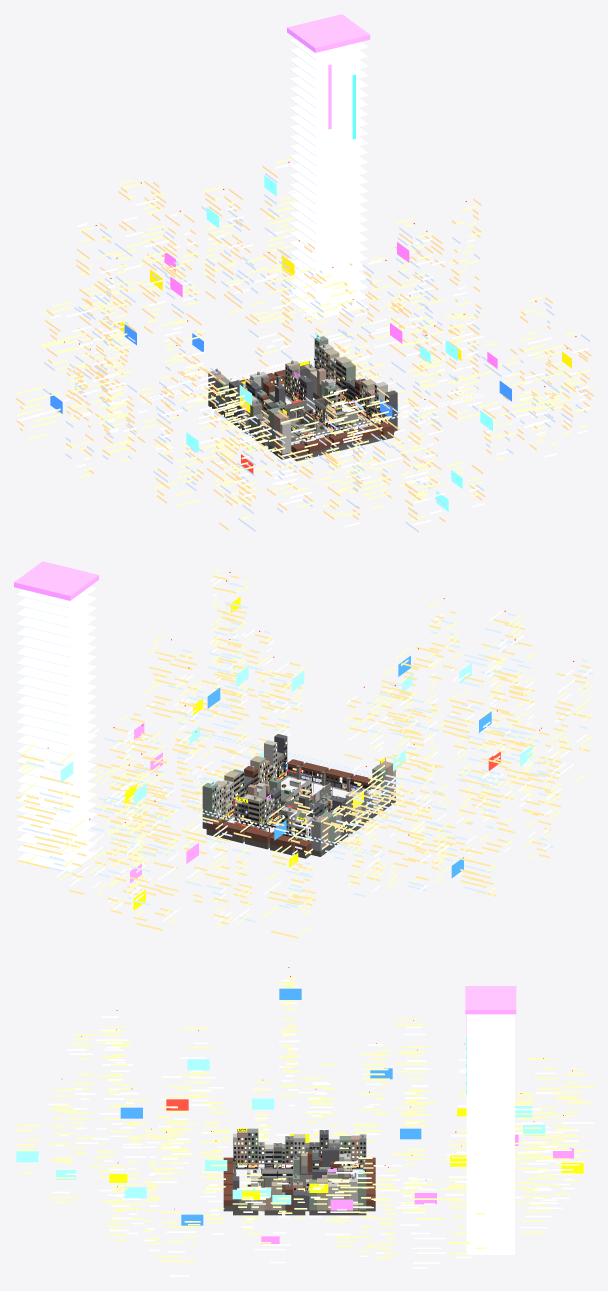
The model's file is kb-town.glb.
The picture shows the model from 3 angles, top to bottom: view 1: azimuth 30°, elevation 25°; view 2: azimuth 150°, elevation 25°; view 3: azimuth 270°, elevation 25°; orthographic projection. The views are drawn at different scales.
Visible parts, largest first — view 1: glb:gj-neon:GJ_WindowCool|ffffff|0, glb:gj-neon:GJ_WindowLit|ffffff|0, glb:gj-shell:GS_Paint|8c7271|1, glb:gj-neon:GJ_NeonViolet|ffffff|0, glb:gj-shell:GS_Tile|ffffff|1, glb:gj-shell:GS_Brick|ffffff|1, glb:gj-shell:GS_StuccoE|ffffff|1, glb:gj-neon:GJ_Screen|ffffff|0, glb:gj-shell:GS_StuccoC|ffffff|1, glb:gj-shell:GS_Slab|ffffff|1, glb:gj-shell:GS_StuccoA|ffffff|1, glb:gj-shell:GS_Concrete|ffffff|1 (+4 smaller); view 2: glb:gj-neon:GJ_WindowCool|ffffff|0, glb:gj-neon:GJ_WindowLit|ffffff|0, glb:gj-shell:GS_Paint|8c7271|1, glb:gj-shell:GS_Brick|ffffff|1, glb:gj-neon:GJ_NeonViolet|ffffff|0, glb:gj-shell:GS_Tile|ffffff|1, glb:gj-shell:GS_StuccoC|ffffff|1, glb:gj-neon:GJ_Screen|ffffff|0, glb:gj-shell:GS_StuccoE|ffffff|1, glb:gj-shell:GS_StuccoA|ffffff|1, glb:gj-shell:GS_Slab|ffffff|1, glb:gj-neon:GJ_LightboxBlue|ffffff|0 (+5 smaller); view 3: glb:gj-neon:GJ_WindowCool|ffffff|0, glb:gj-neon:GJ_WindowLit|ffffff|0, glb:gj-neon:GJ_Screen|ffffff|0, glb:gj-shell:GS_Paint|8c7271|1, glb:gj-neon:GJ_NeonViolet|ffffff|0, glb:gj-shell:GS_Tile|ffffff|1, glb:gj-shell:GS_StuccoC|ffffff|1, glb:gj-shell:GS_StuccoE|ffffff|1, glb:gj-shell:GS_Brick|ffffff|1, glb:gj-neon:GJ_LightboxBlue|ffffff|0, glb:gj-neon:GJ_LightboxYellow|ffffff|0, glb:gj-shell:GS_Slab|ffffff|1 (+5 smaller).
Boxes of the visible parts, x1,y1,x2,y2 form: glb:gj-neon:GJ_WindowCool|ffffff|0: [15, 38, 590, 532]; glb:gj-neon:GJ_WindowLit|ffffff|0: [14, 158, 593, 530]; glb:gj-shell:GS_Paint|8c7271|1: [215, 335, 388, 444]; glb:gj-neon:GJ_NeonViolet|ffffff|0: [287, 14, 383, 422]; glb:gj-shell:GS_Tile|ffffff|1: [242, 344, 387, 454]; glb:gj-shell:GS_Brick|ffffff|1: [240, 364, 393, 455]; glb:gj-shell:GS_StuccoE|ffffff|1: [229, 366, 397, 426]; glb:gj-neon:GJ_Screen|ffffff|0: [186, 175, 492, 511]; glb:gj-shell:GS_StuccoC|ffffff|1: [216, 336, 361, 447]; glb:gj-shell:GS_Slab|ffffff|1: [208, 392, 397, 461]; glb:gj-shell:GS_StuccoA|ffffff|1: [263, 349, 376, 417]; glb:gj-shell:GS_Concrete|ffffff|1: [240, 366, 384, 436]; glb:gj-neon:GJ_WindowCool|ffffff|0: [16, 575, 592, 922]; glb:gj-neon:GJ_WindowLit|ffffff|0: [15, 569, 593, 938]; glb:gj-shell:GS_Paint|8c7271|1: [211, 736, 385, 841]; glb:gj-shell:GS_Brick|ffffff|1: [206, 759, 372, 852]; glb:gj-neon:GJ_NeonViolet|ffffff|0: [14, 561, 284, 824]; glb:gj-shell:GS_Tile|ffffff|1: [214, 740, 395, 836]; glb:gj-shell:GS_StuccoC|ffffff|1: [202, 765, 387, 844]; glb:gj-neon:GJ_Screen|ffffff|0: [60, 663, 532, 804]; glb:gj-shell:GS_StuccoE|ffffff|1: [234, 734, 352, 835]; glb:gj-shell:GS_StuccoA|ffffff|1: [215, 756, 332, 826]; glb:gj-shell:GS_Slab|ffffff|1: [202, 796, 395, 858]; glb:gj-neon:GJ_LightboxBlue|ffffff|0: [207, 655, 491, 877]; glb:gj-neon:GJ_WindowCool|ffffff|0: [15, 979, 593, 1276]; glb:gj-neon:GJ_WindowLit|ffffff|0: [14, 977, 593, 1262]; glb:gj-neon:GJ_Screen|ffffff|0: [16, 1059, 545, 1204]; glb:gj-shell:GS_Paint|8c7271|1: [233, 1129, 365, 1193]; glb:gj-neon:GJ_NeonViolet|ffffff|0: [465, 986, 516, 1035]; glb:gj-shell:GS_Tile|ffffff|1: [233, 1133, 357, 1210]; glb:gj-shell:GS_StuccoC|ffffff|1: [247, 1128, 366, 1210]; glb:gj-shell:GS_StuccoE|ffffff|1: [233, 1130, 350, 1210]; glb:gj-shell:GS_Brick|ffffff|1: [223, 1151, 375, 1210]; glb:gj-neon:GJ_LightboxBlue|ffffff|0: [120, 988, 421, 1225]; glb:gj-neon:GJ_LightboxYellow|ffffff|0: [109, 1108, 583, 1199]; glb:gj-shell:GS_Slab|ffffff|1: [223, 1165, 375, 1215].
Bounding box in the file's own units: 294 × 173 × 364.
